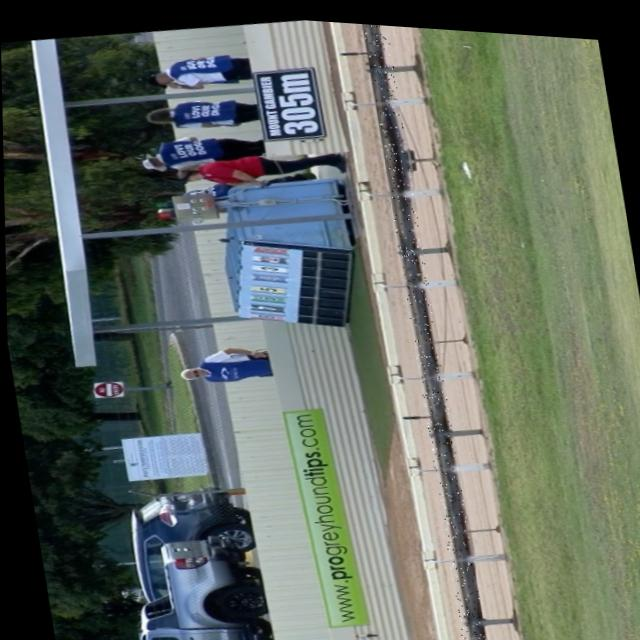rail: (364, 19, 484, 640)
